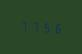five: (40, 19, 50, 34)
seven: (18, 18, 28, 33), (29, 19, 39, 33)
six: (51, 20, 61, 35)
